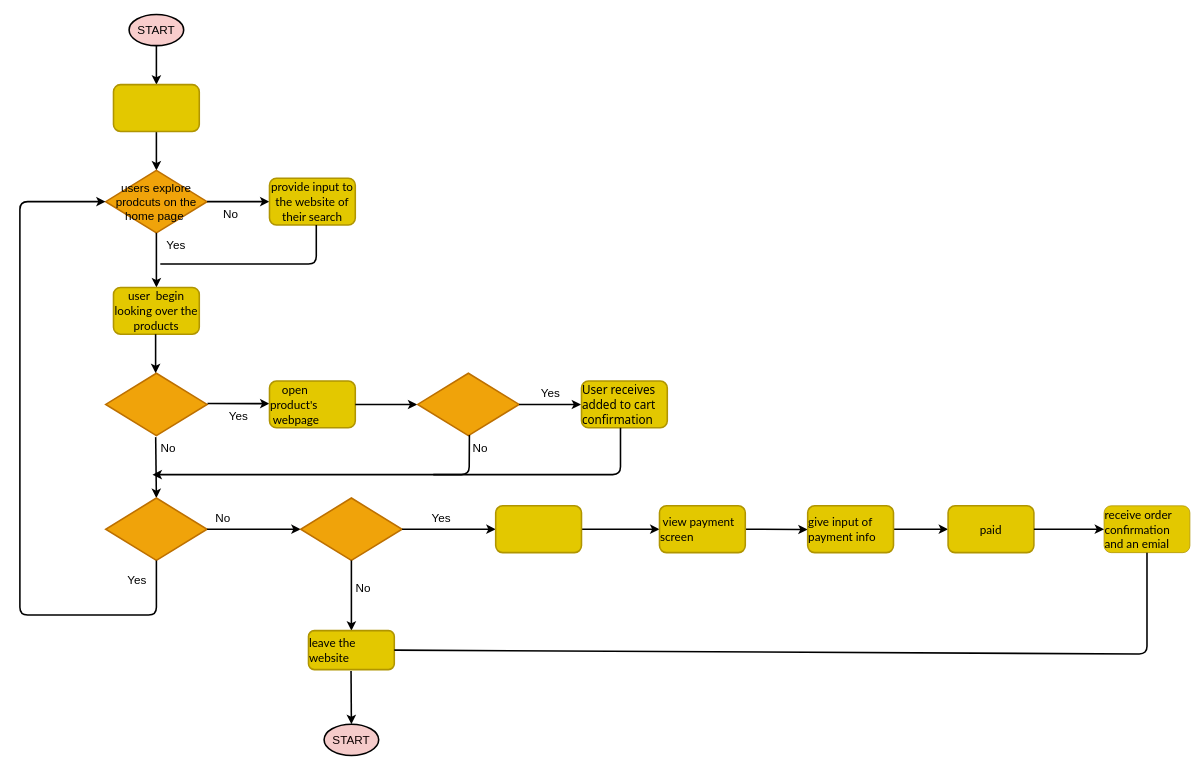
The diagram is 1204 pixels wide and 769 high, and some of its shapes have lost their labels. Here are the shapes that lost their labels. From the top down, the box of each, then its label:
(112, 83, 200, 132): User enters the website
(105, 372, 207, 436): user views a specific product
(417, 372, 519, 436): add to their cart
(105, 497, 207, 561): user continues shopping
(300, 497, 402, 561): check out
(495, 505, 582, 553): reach view cart screen
